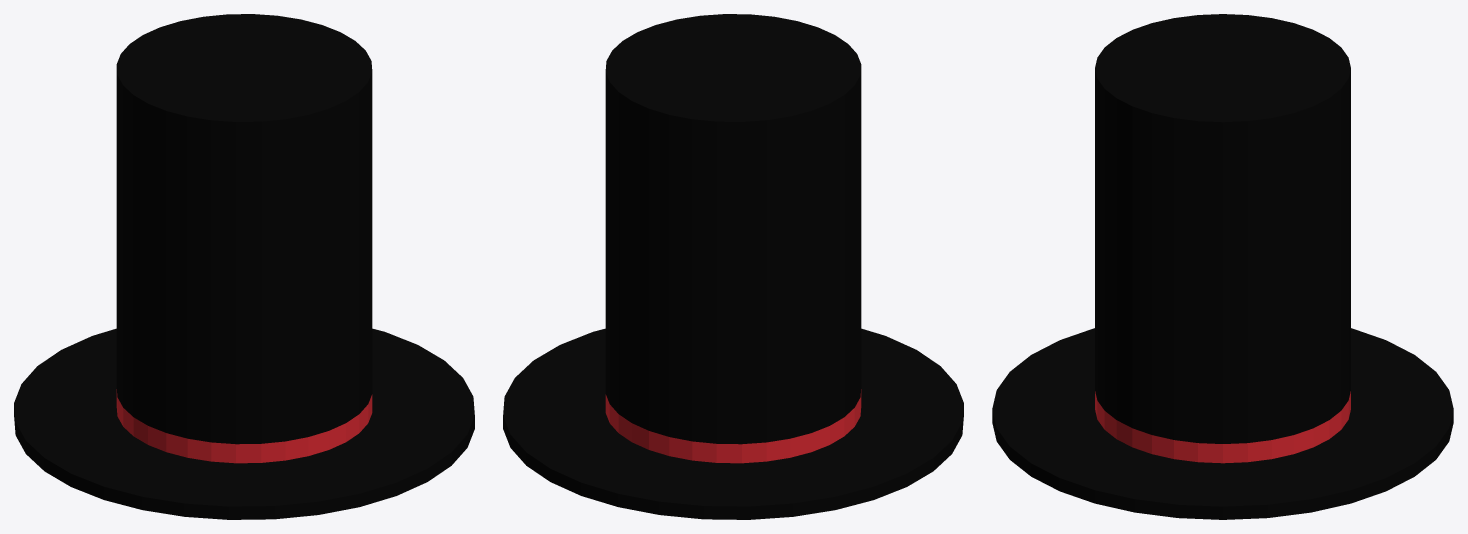
Rendered from TopHat.fbx.
3 views of the same model, side by side, from view 1: azimuth 30°, elevation 25°; view 2: azimuth 150°, elevation 25°; view 3: azimuth 270°, elevation 25° (orthographic).
Parts seen in each view (by area): view 1: Top Hat; view 2: Top Hat; view 3: Top Hat.
Boxes of the visible parts, bbox=[...] form: Top Hat: bbox=[14, 14, 474, 519]; Top Hat: bbox=[503, 14, 963, 519]; Top Hat: bbox=[992, 14, 1453, 519].
Size of the model in its own units: 80.34 by 68.06 by 80.34.
